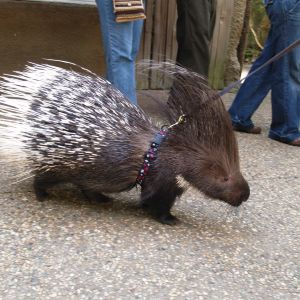porcupine: (1, 59, 250, 226)
